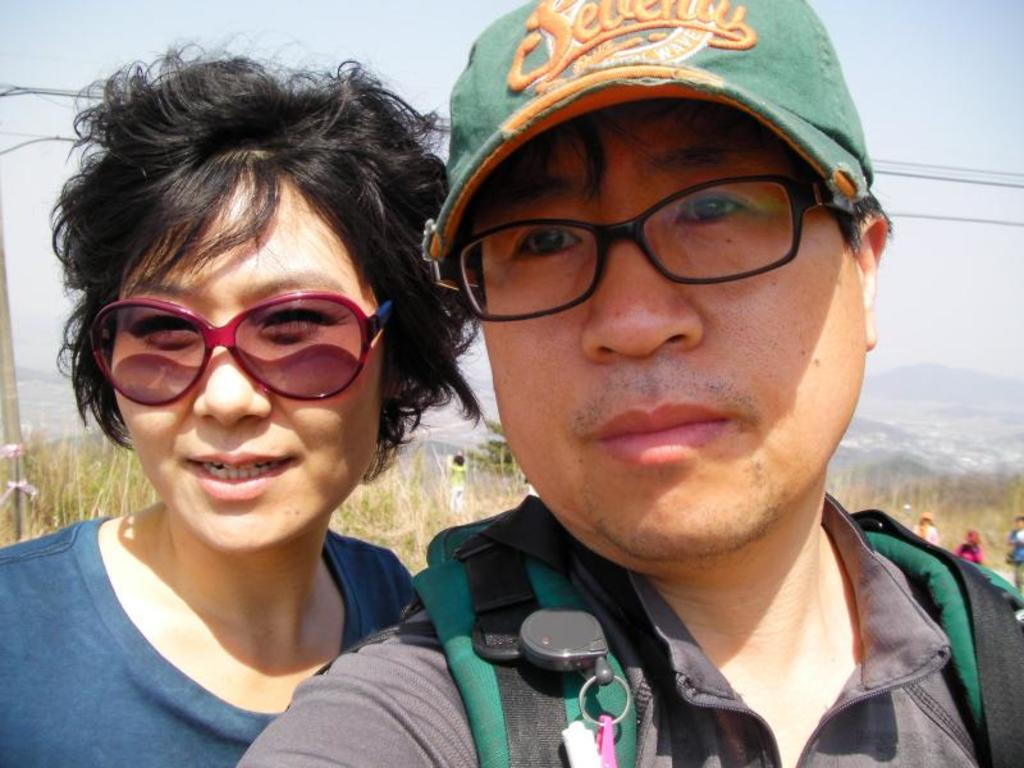Hat: (422, 0, 867, 262)
